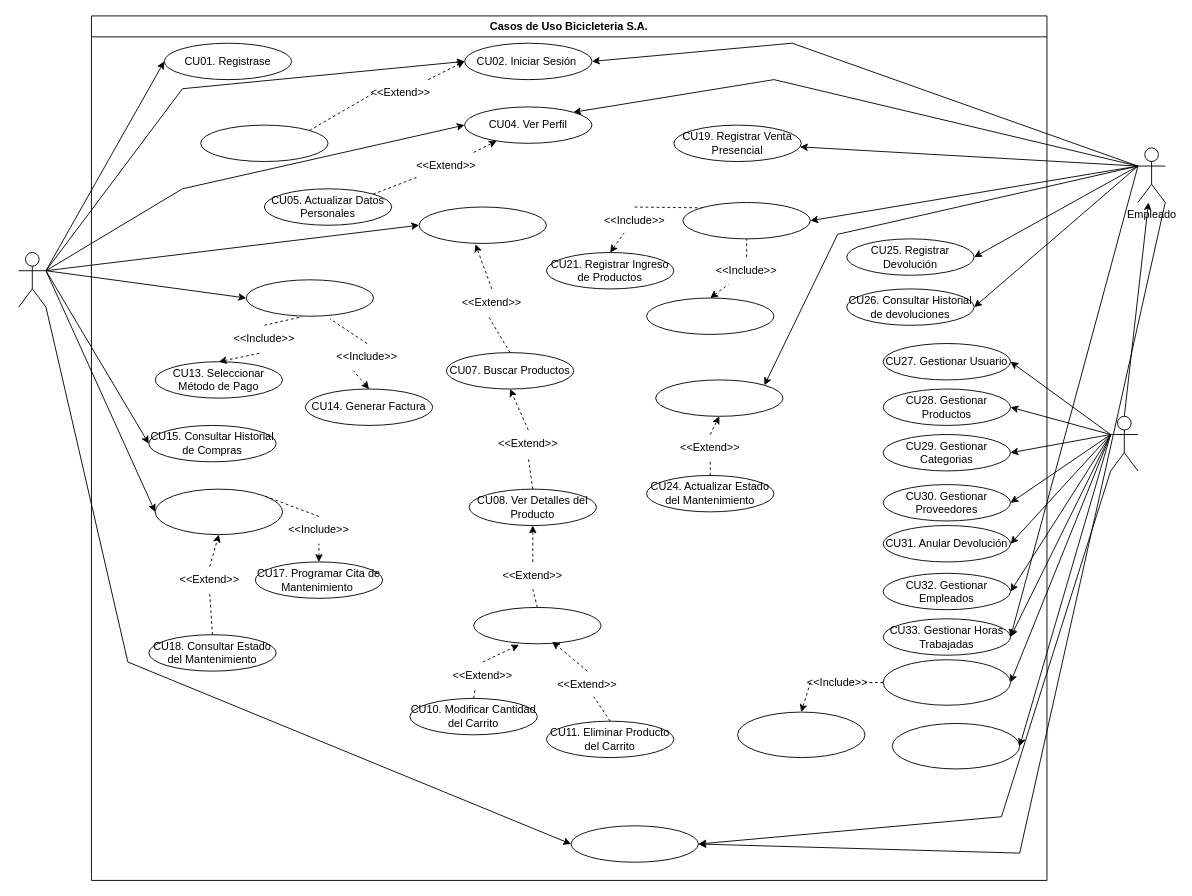
This 1192x896 diagram has some shape labels left out. The centre of each missing label's shape, as x and y in pixels:
Administrador: (1124,443)
Cliente: (32,279)
CU03. Recuperar Contraseña: (264,143)
CU06. Consultar Catalogo de Productos: (482,224)
CU09. Agregar Producto al Carrito: (537,625)
CU12. Realizar Compra: (309,297)
CU16. Solicitar Mantenimiento de la Bicicleta: (218,511)
CU20. Consultar Inventario: (746,220)
CU22. Registrar Salida de Productos: (710,315)
CU23. Registrar Mantenimiento Realizado: (719,397)
CU34. Calcular Pago Segun Horas Trabajadas: (946,682)
CU35. Generar Comprobante de Pago: (801,734)
CU36. Generar reportes: (955,746)
CU37 . Cerrar Sesión: (634,843)
